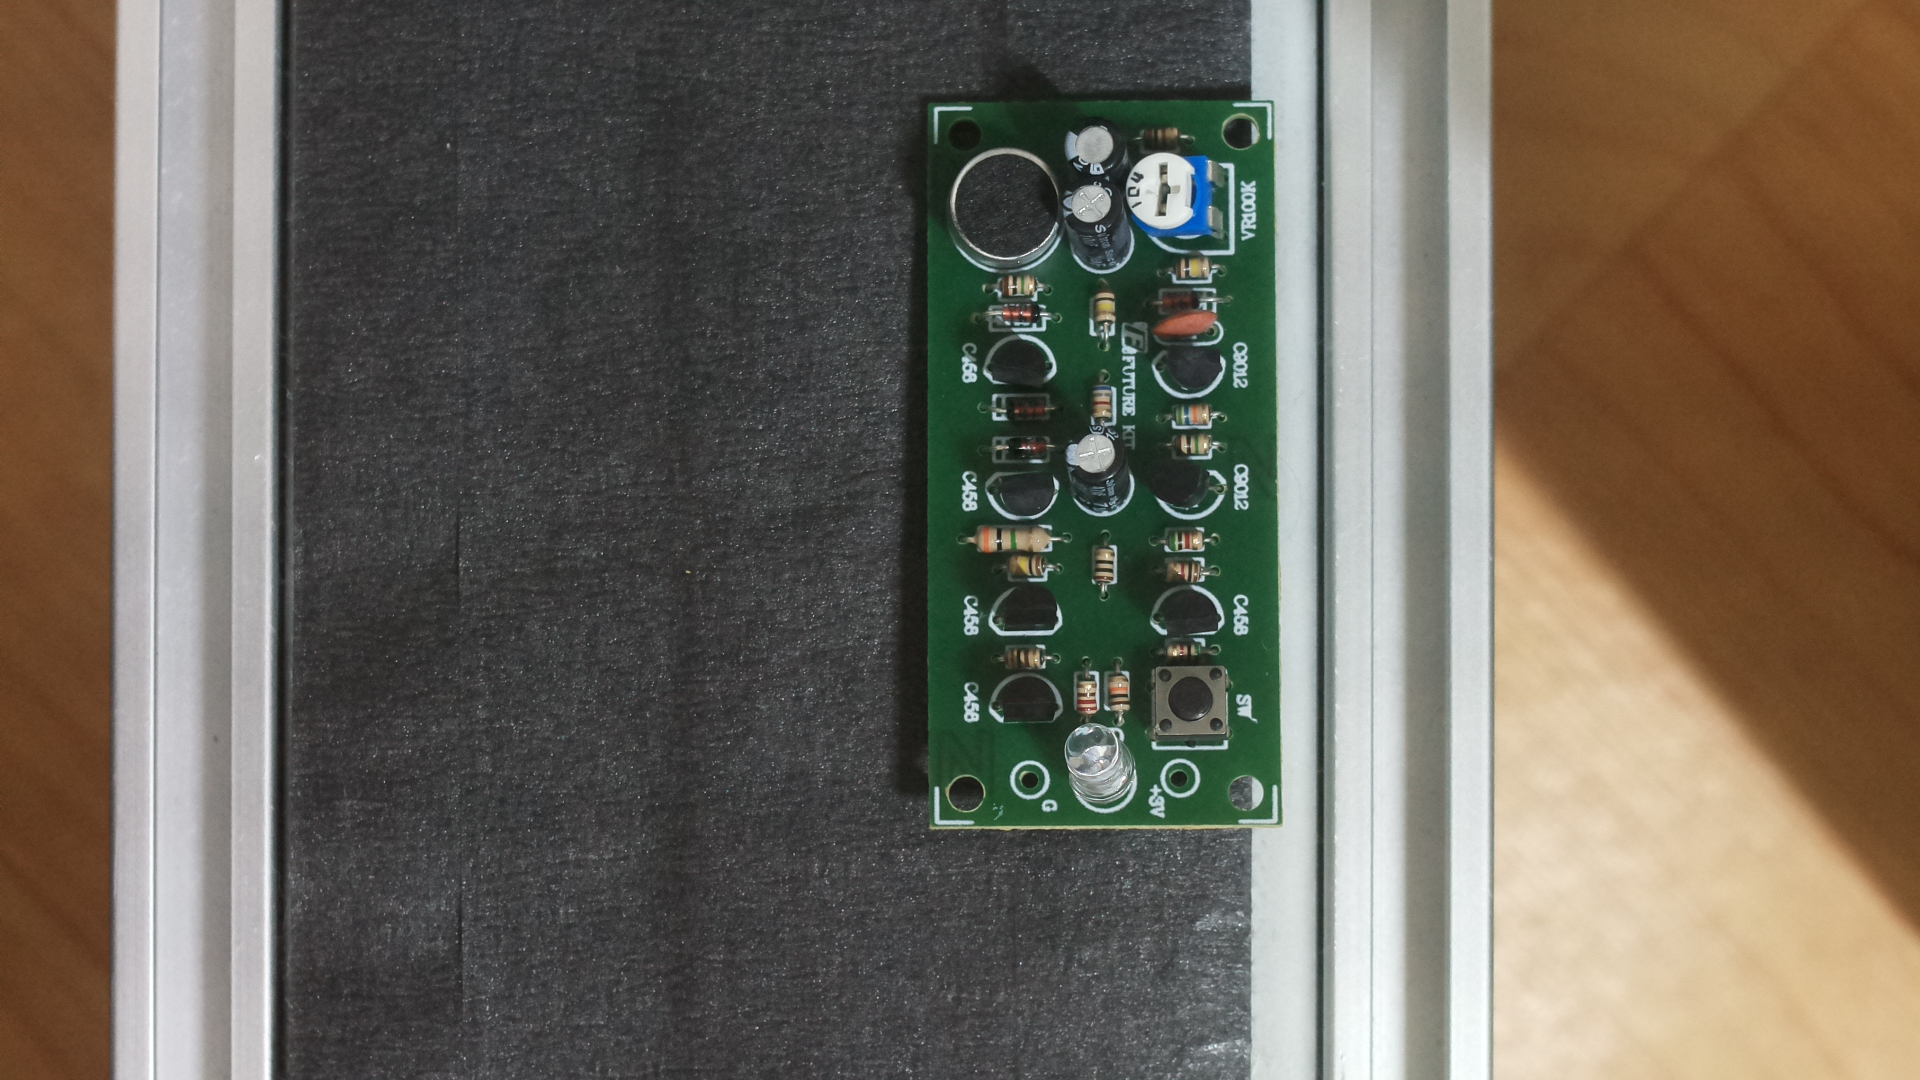A_Normal: (915, 83, 1294, 840)
